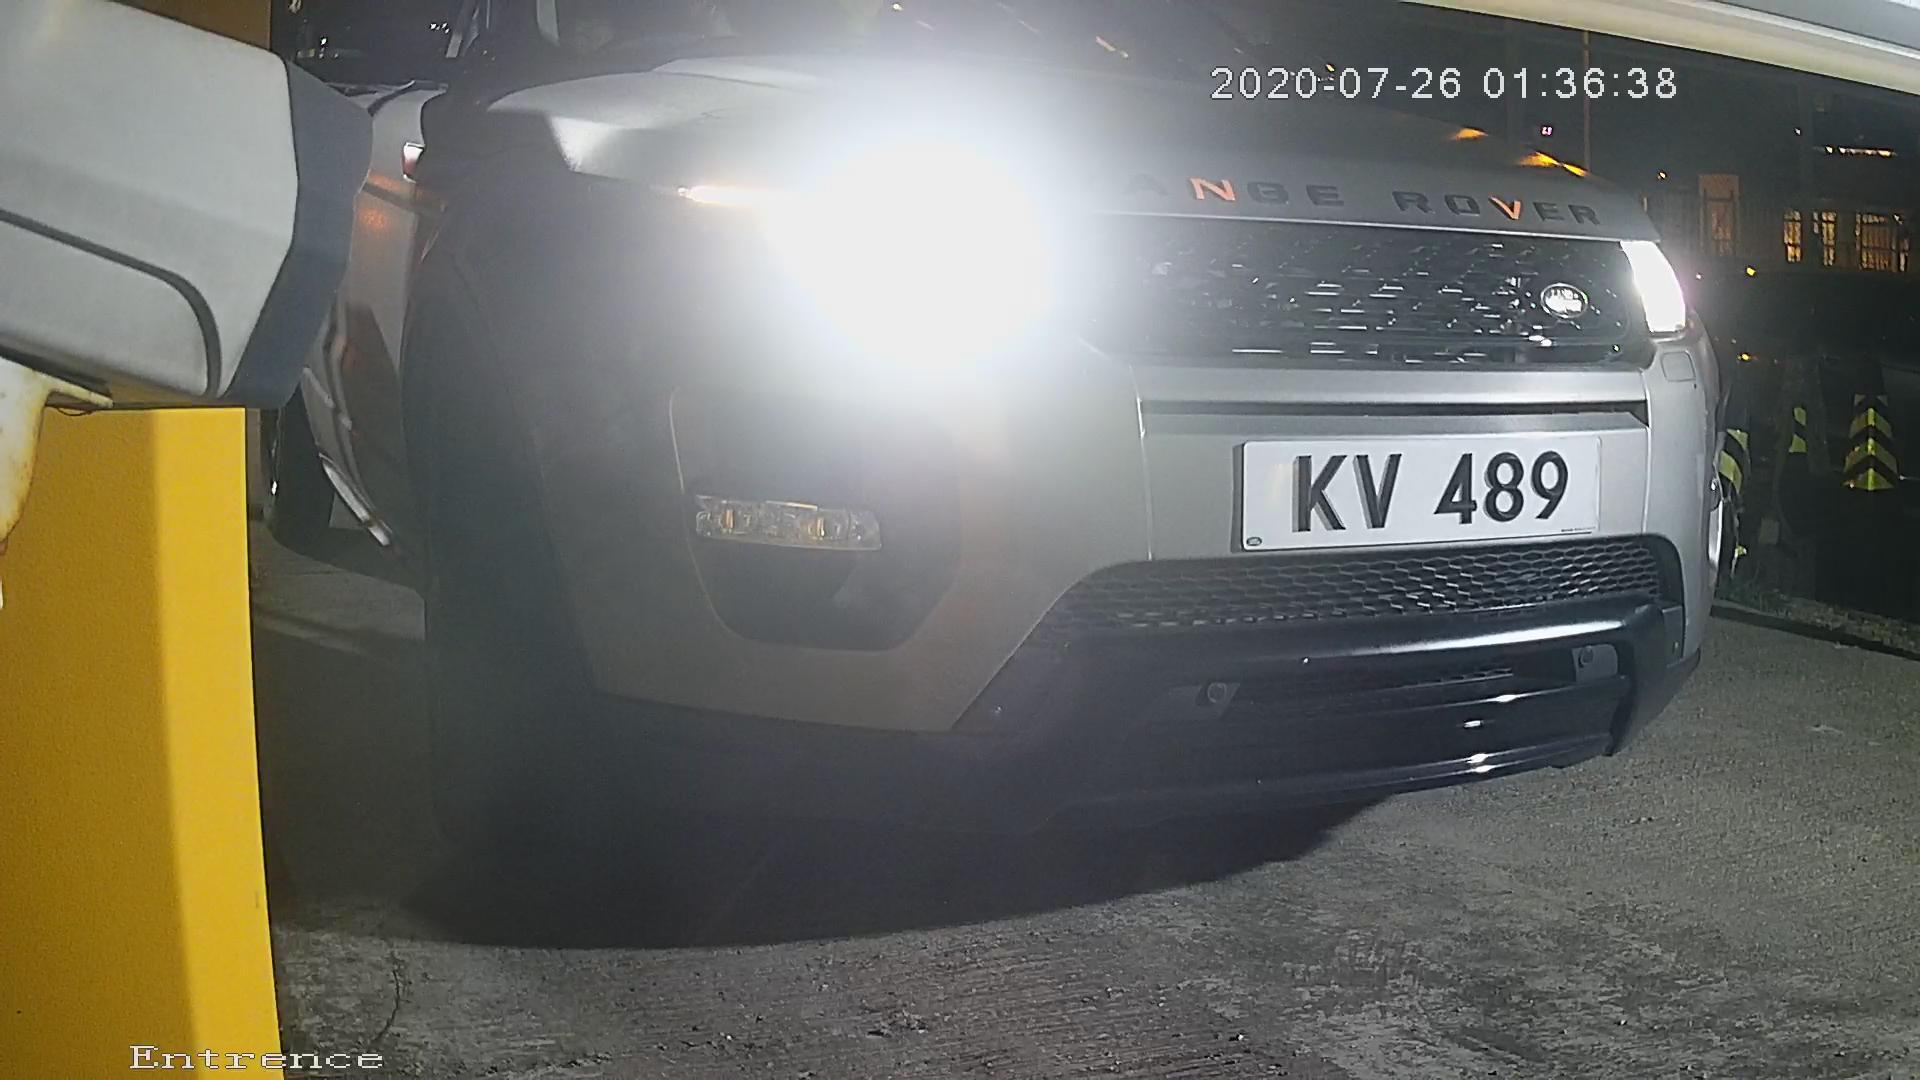privatecar: (318, 1, 1809, 839)
